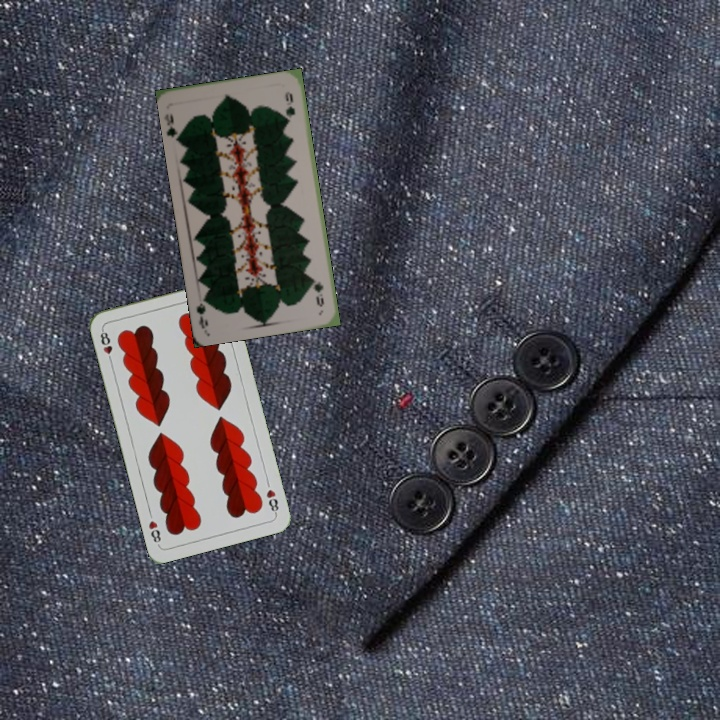G9: (162, 110, 184, 143), (309, 274, 326, 309)
H8: (96, 325, 115, 365), (262, 485, 281, 517)
